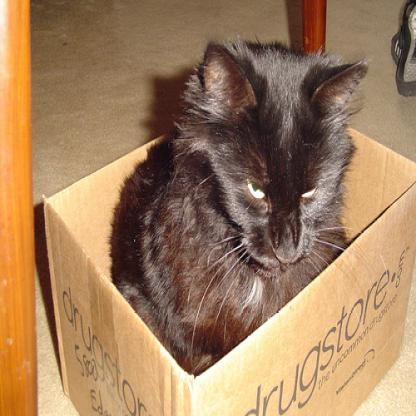cat: (111, 38, 368, 377)
